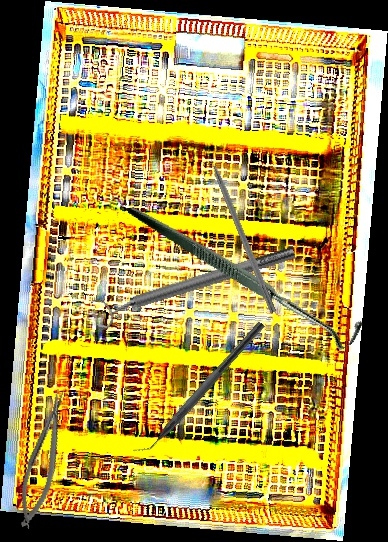Chopper: (131, 312, 265, 463)
Fixation Ring: (89, 237, 300, 332)
Hook Surgical: (127, 136, 369, 408), (202, 142, 279, 314)
Needle Holder: (8, 386, 80, 532)
